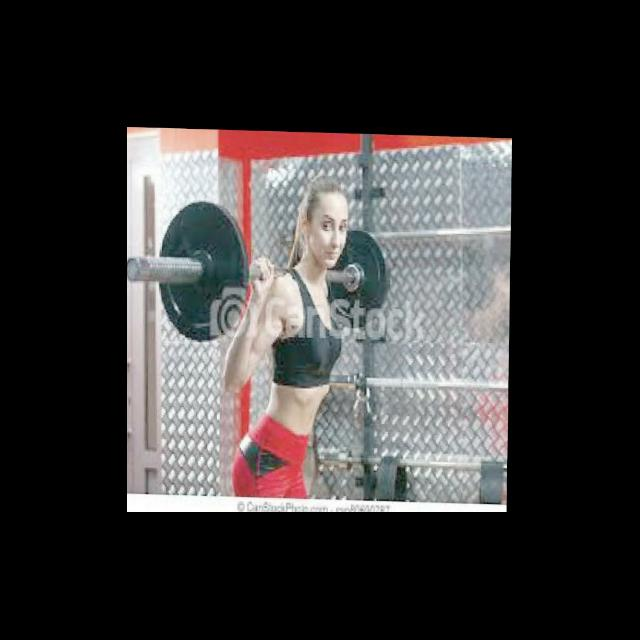barbell: (127, 196, 262, 344)
